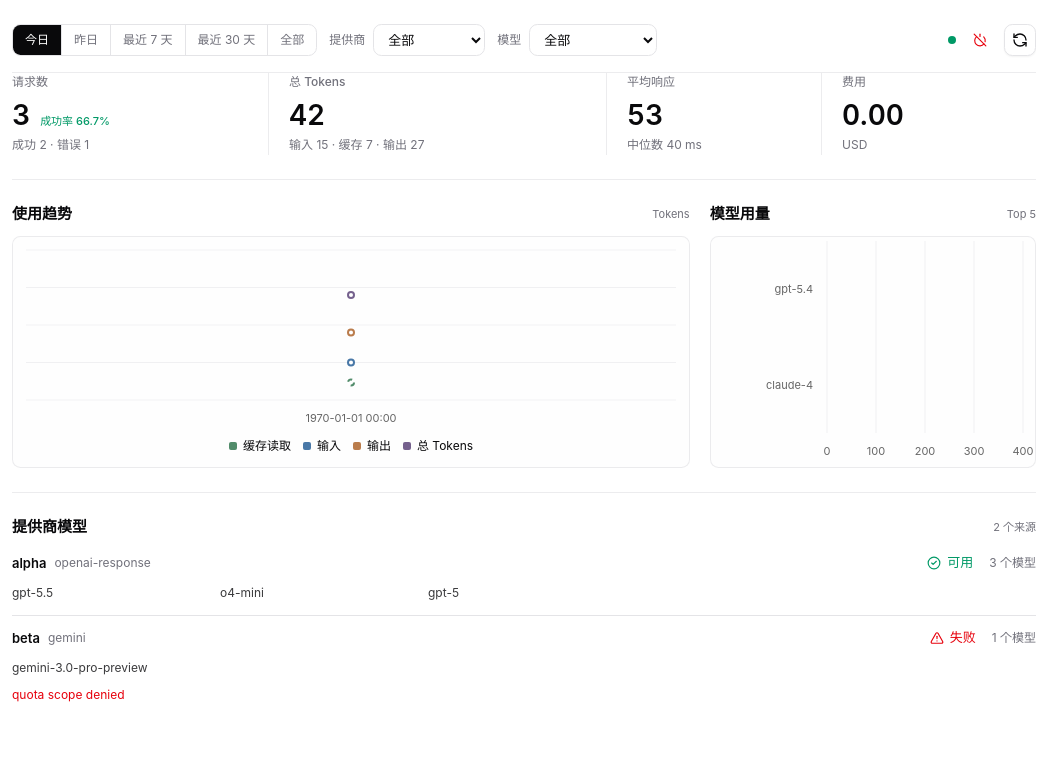
Scenario: dashboard/DashboardPanel › enables auto-refresh by default and allows toggling it
Click the button named "关闭自动刷新".
click(980, 40)  # box [964,24,996,56]
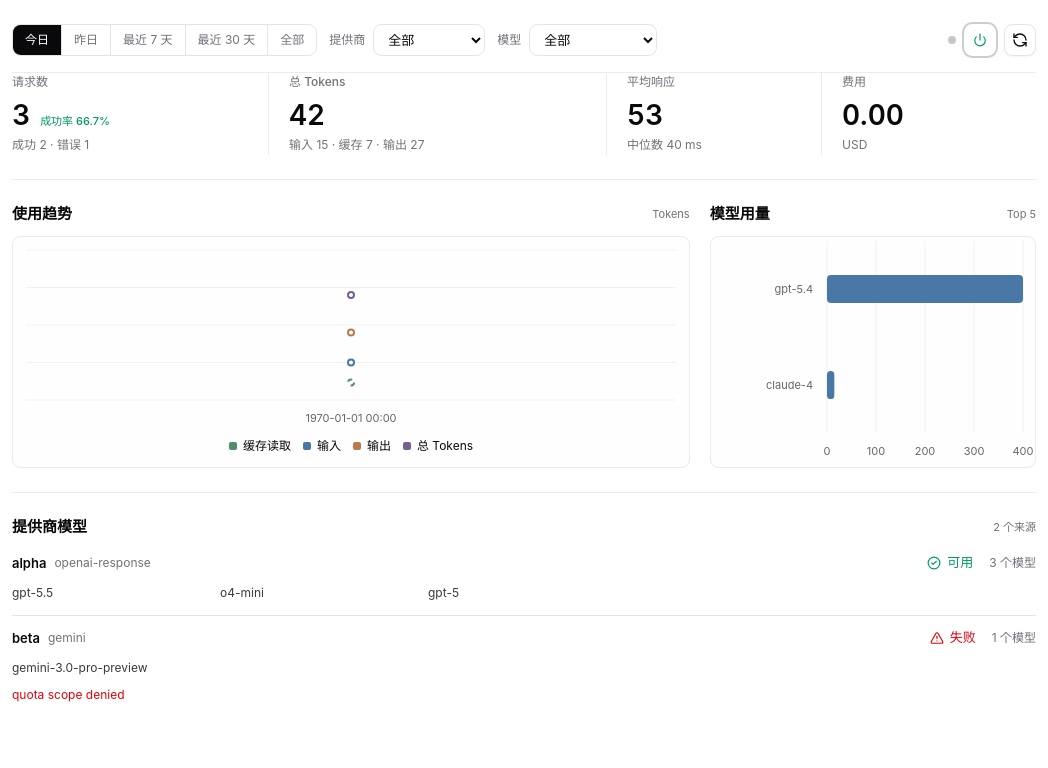
Check: the button named "开启自动刷新" is shown, box [964,24,996,56]
